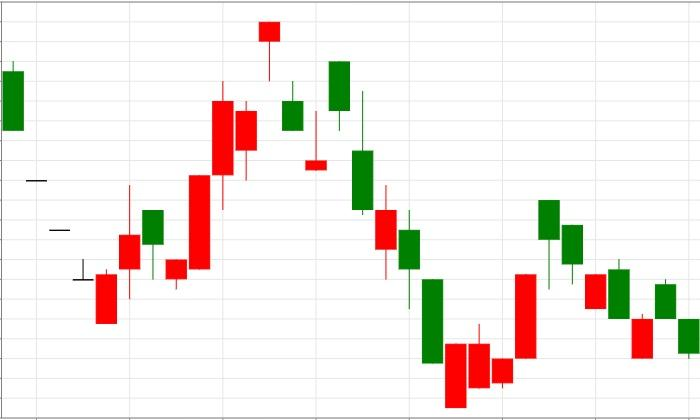hanging_man_fall: (165, 21, 281, 289)
